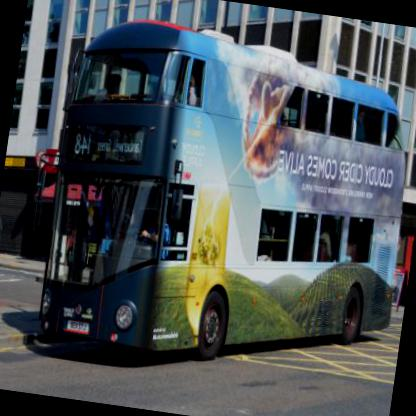bus: (13, 7, 415, 387)
